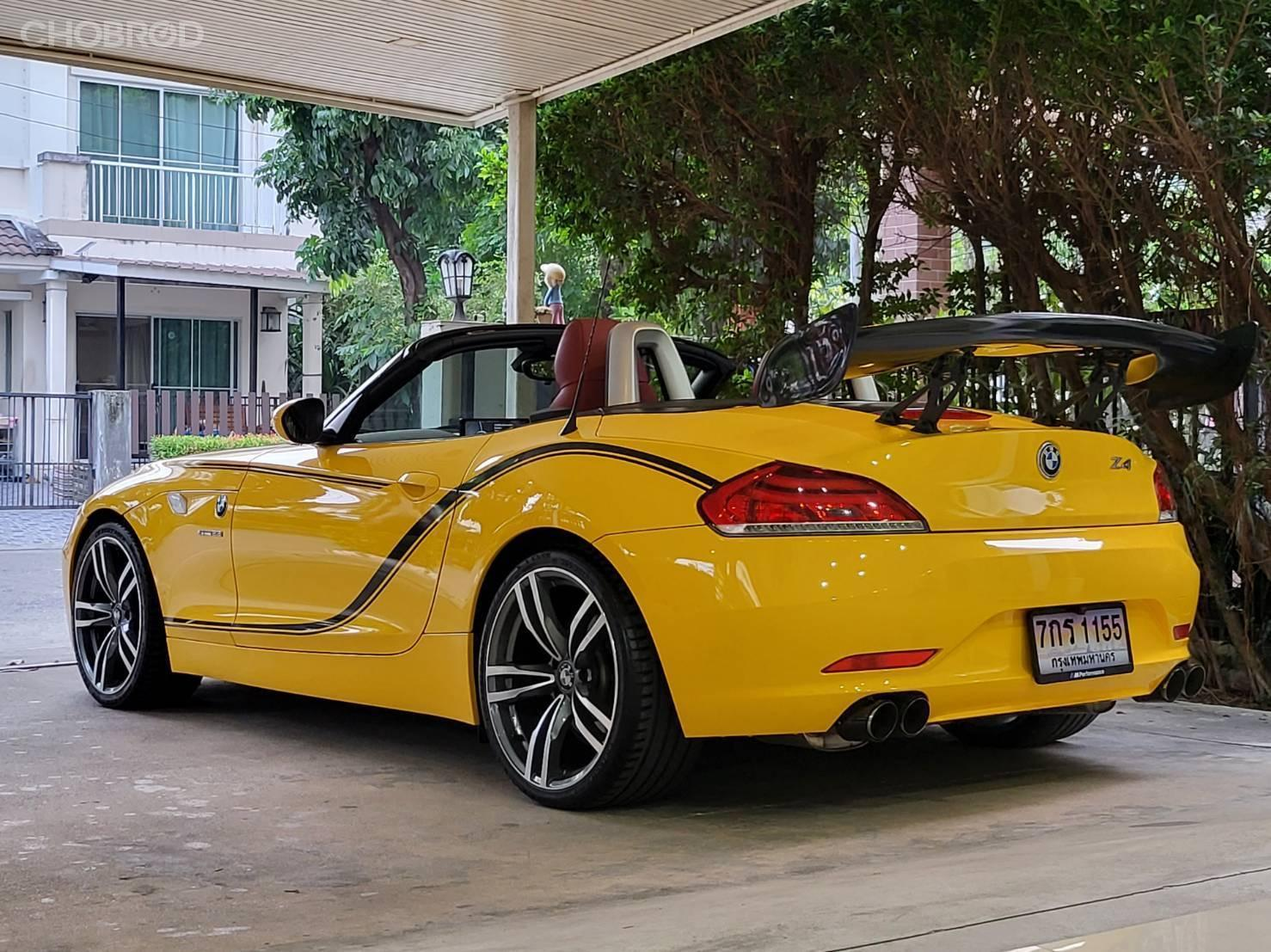license-plate: (1022, 592, 1144, 694)
